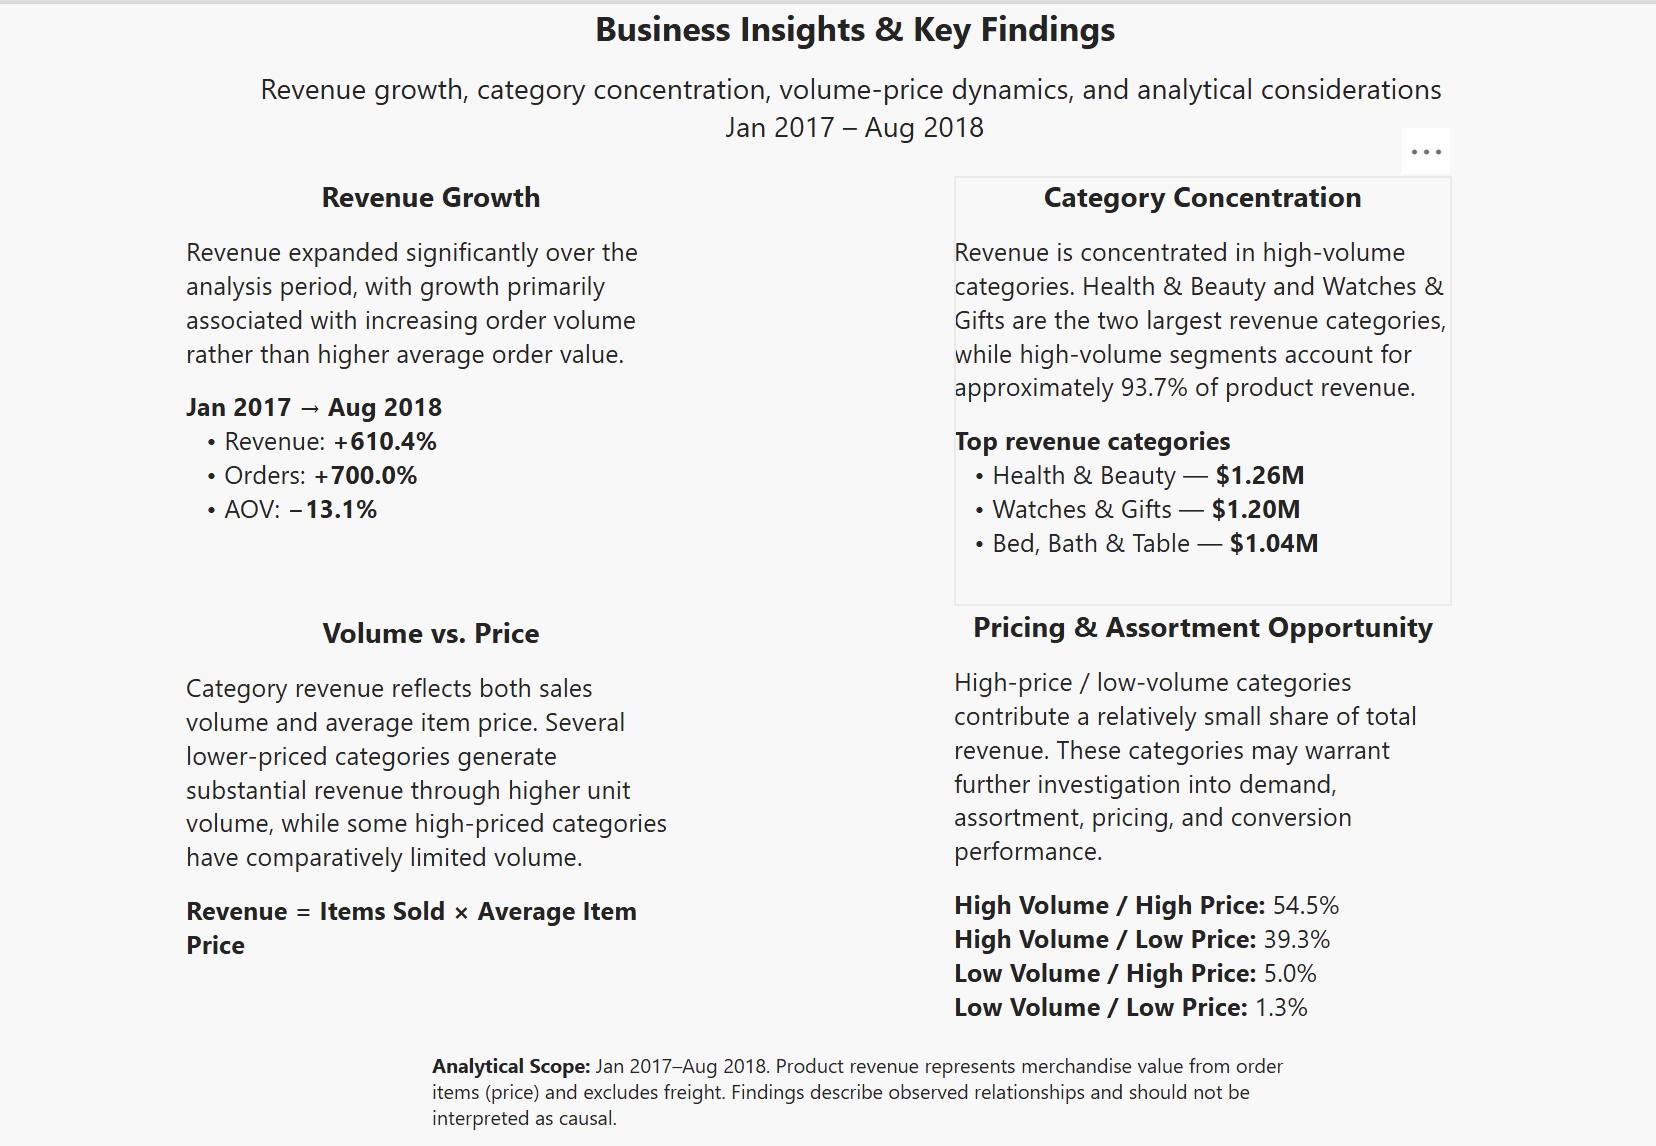

What the dashboard file says about the page in this screenshot:
{"tool":"powerbi","page":{"name":"Business Insights","canvas":[1920,1080],"ordinal":2},"visuals":[{"type":"textbox","box":[232.1,0,1318.9,139.6],"z":0},{"type":"textbox","box":[260.4,162.3,462.3,439.6],"z":1},{"type":"textbox","box":[260.4,573.6,462.3,415.1],"z":2},{"type":"textbox","box":[984.9,162.3,469.8,405.7],"z":3},{"type":"textbox","box":[984.9,567.9,469.8,426.4],"z":4},{"type":"textbox","box":[492.5,988.7,818.9,92.5],"z":5}]}

Visuals, with their boxes on the page's 1920x1080 design canvas (x1, y1, x2, y2). These are canvas units, not pixel positions in the 1656x1146 screenshot, which may show the page scaled, cropped or inside an application window:
textbox: locate(232, 0, 1551, 140)
textbox: locate(260, 162, 723, 602)
textbox: locate(260, 574, 723, 989)
textbox: locate(985, 162, 1455, 568)
textbox: locate(985, 568, 1455, 994)
textbox: locate(492, 989, 1311, 1081)
